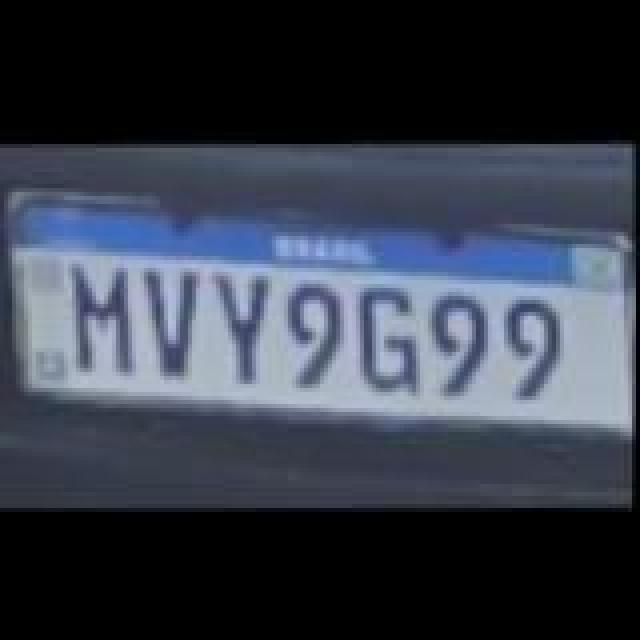9: (502, 292, 578, 400), (428, 290, 500, 398), (280, 278, 352, 386)
G: (354, 278, 430, 390)
M: (62, 260, 146, 376)
V: (140, 264, 212, 376)
Y: (212, 268, 284, 380)
